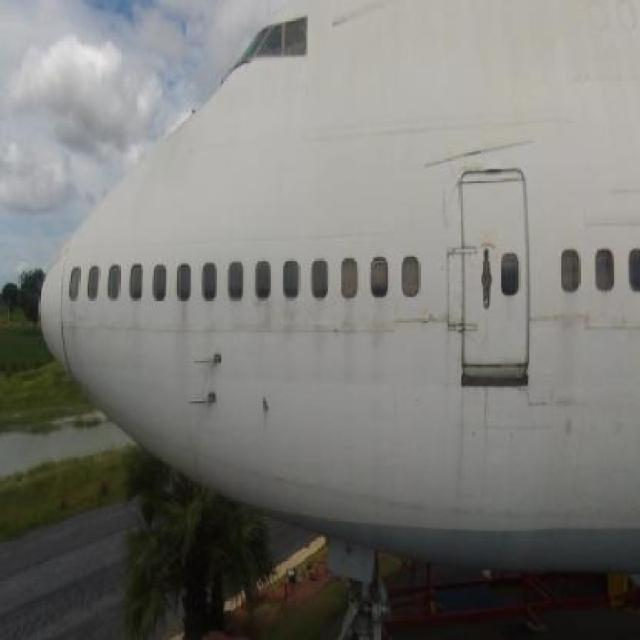Missing-Rivet: (438, 228, 468, 338)
Scartch: (413, 111, 542, 169), (394, 303, 438, 334)
